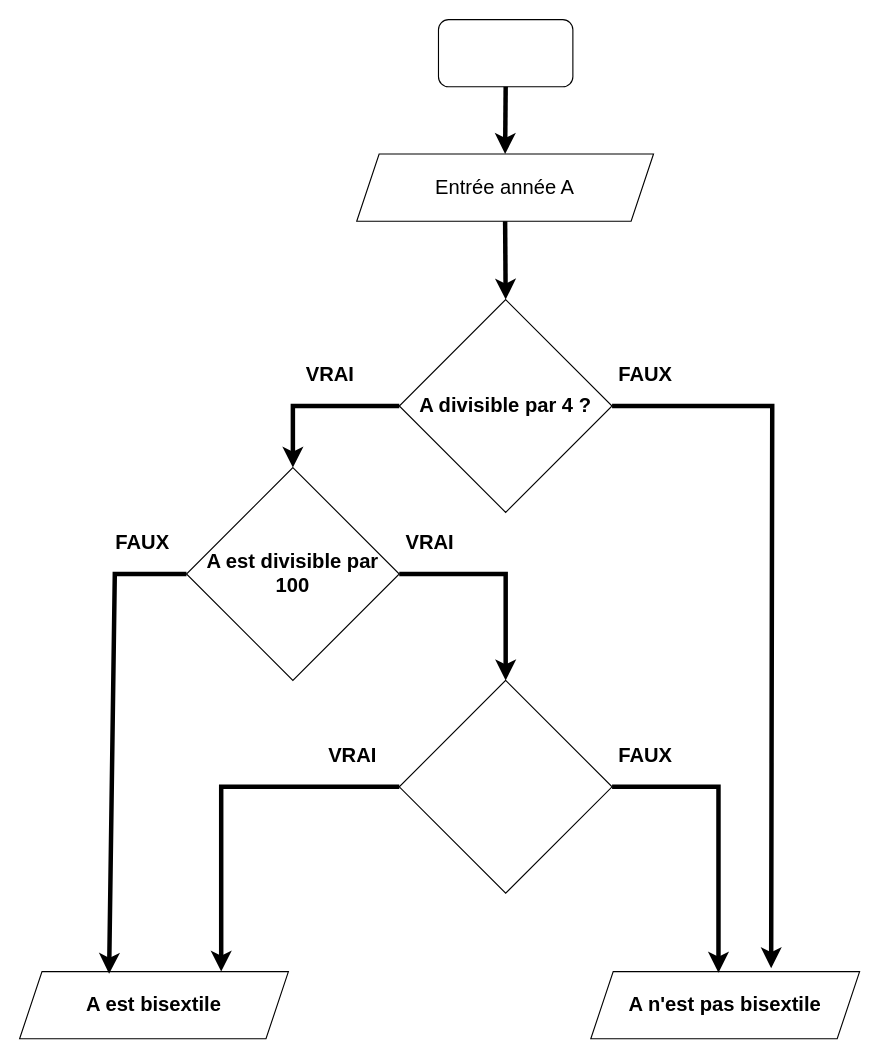
The diagram is 879 pixels wide and 1058 high, and some of its shapes have lost their labels. The shapes that lost their labels are listed below. From the top down, each one's centre as x and y in pixels, then its label:
the point at 505,52: Début
the point at 505,786: A est divisible par 400
